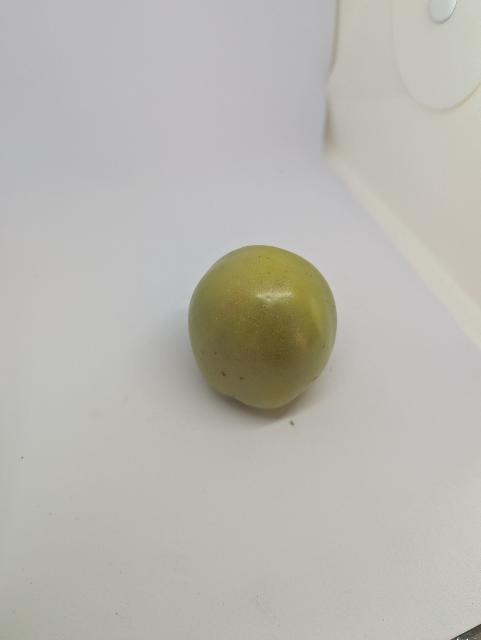green: (175, 229, 349, 438)
